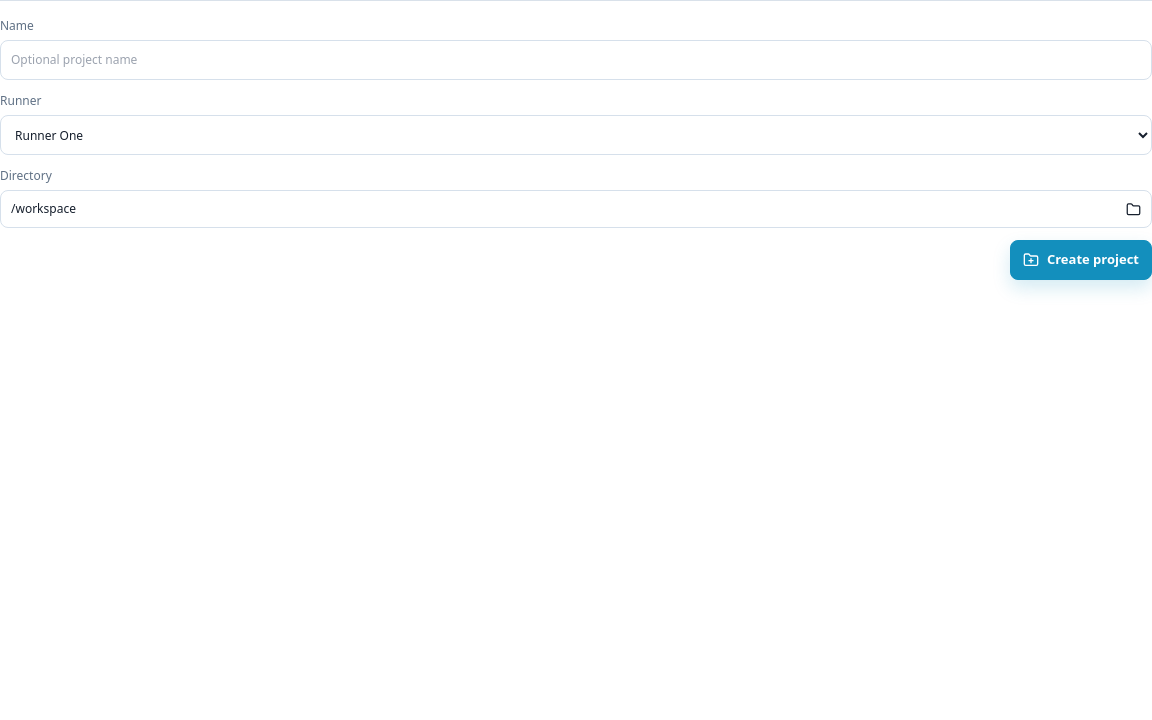
Test: ProjectForm › ignores stale directory picker loads after a forced reload
Click the button named "Directory" at (43, 208), box x1=0 y1=190 x2=1151 y2=228
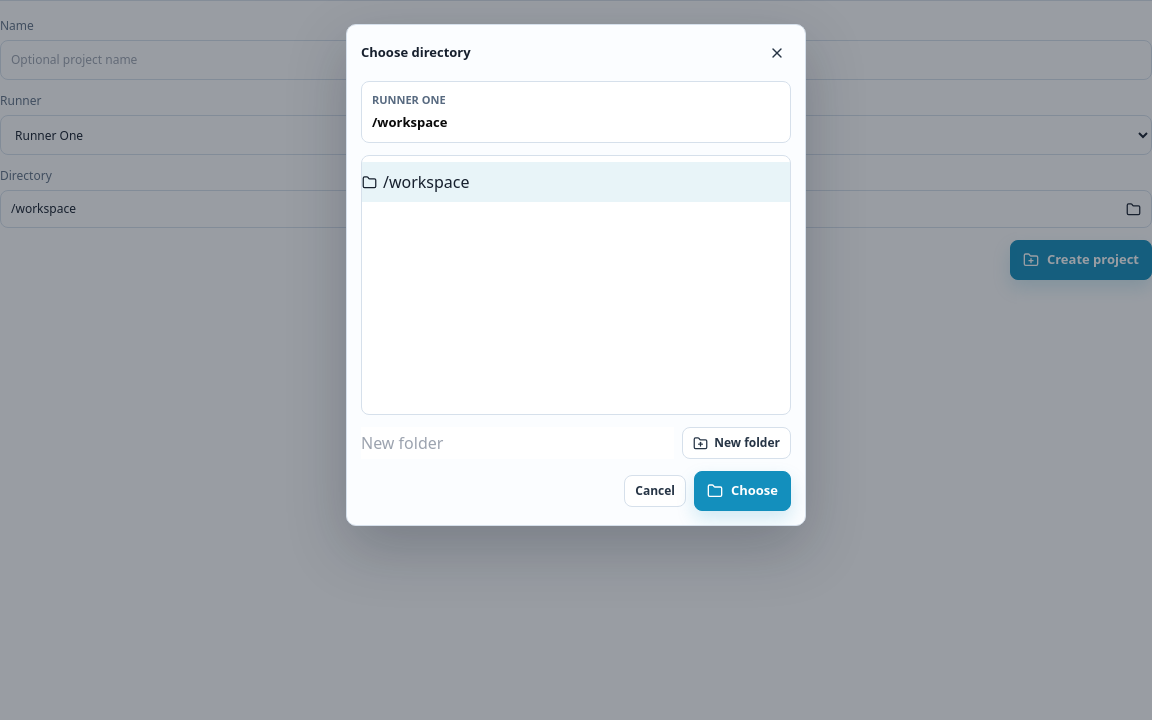
Type "mobile" into the field named "New folder name" at (518, 443), box x1=361 y1=427 x2=674 y2=459
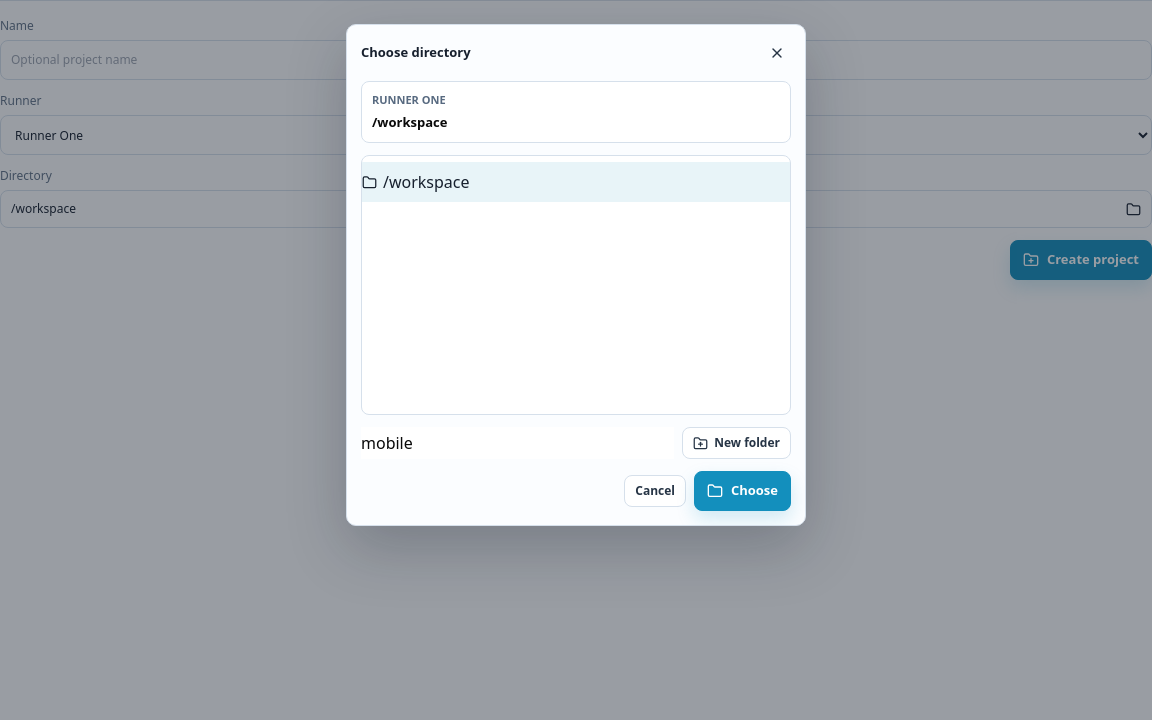
Submit the form named "New folder name", box x1=361 y1=427 x2=791 y2=459
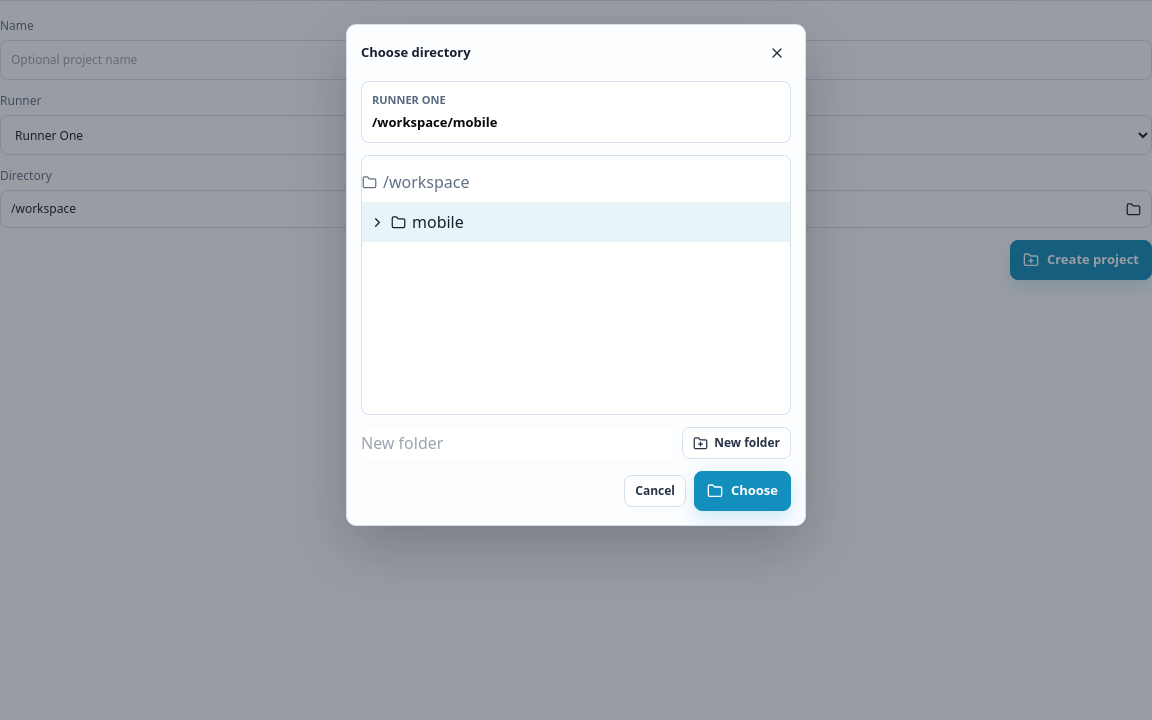
Now the list item "mobile" is shown, box x1=362 y1=202 x2=790 y2=242
